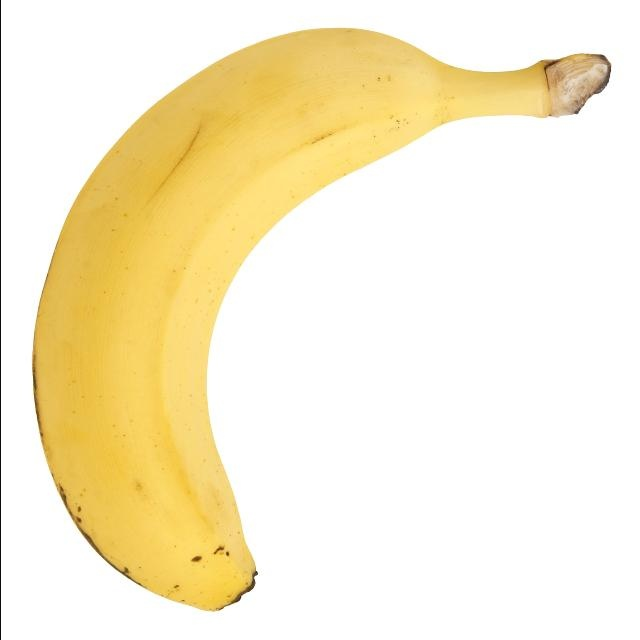agrume: (27, 23, 617, 615)
